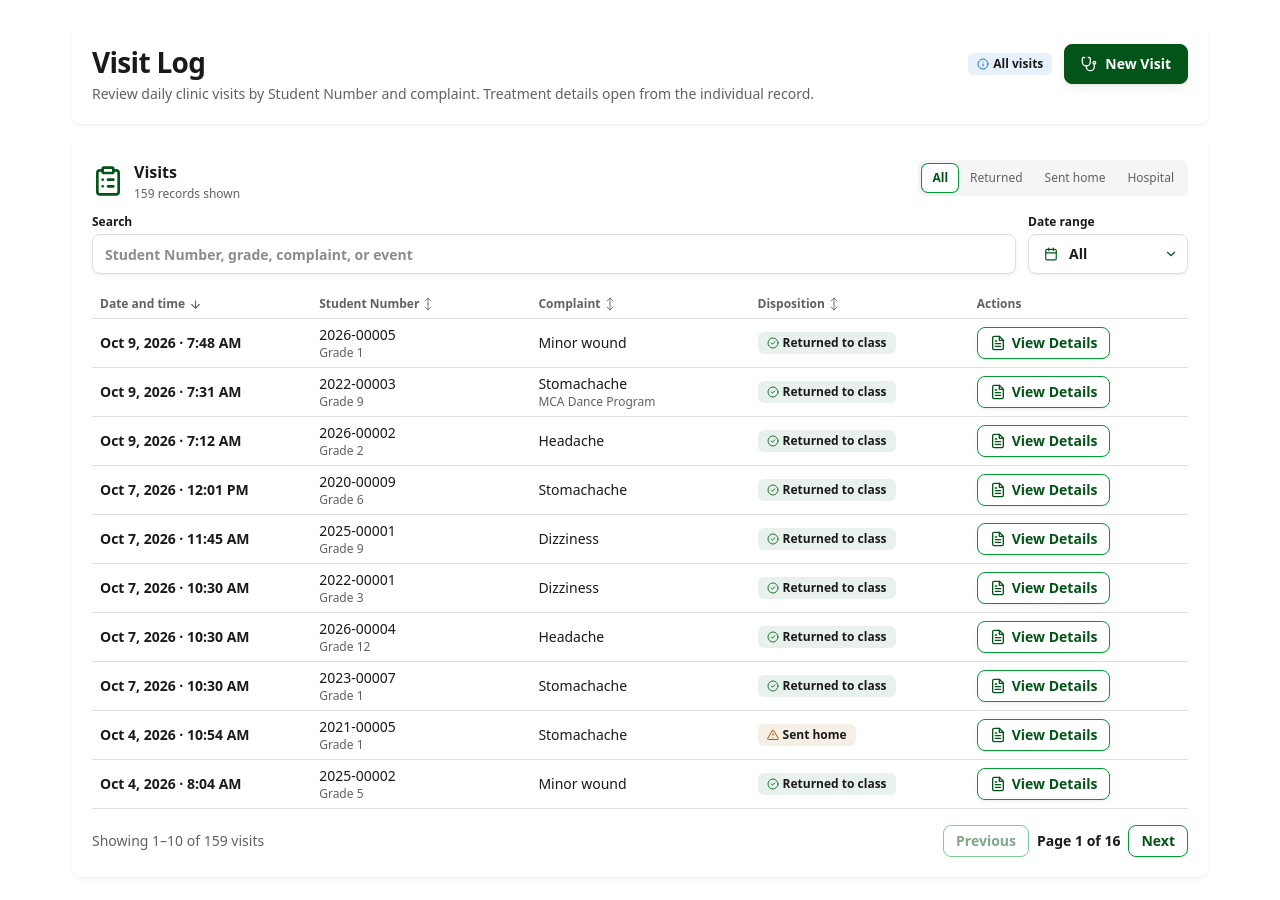
it: Visit Log › toggles a sortable column between ascending and descending
The image size is (1280, 900).
Expected: the heading "Visit Log" is shown, [92,43,205,81]
Click the button with aria-label "Sort by Student Number" at (376, 304), box [319,296,433,312]
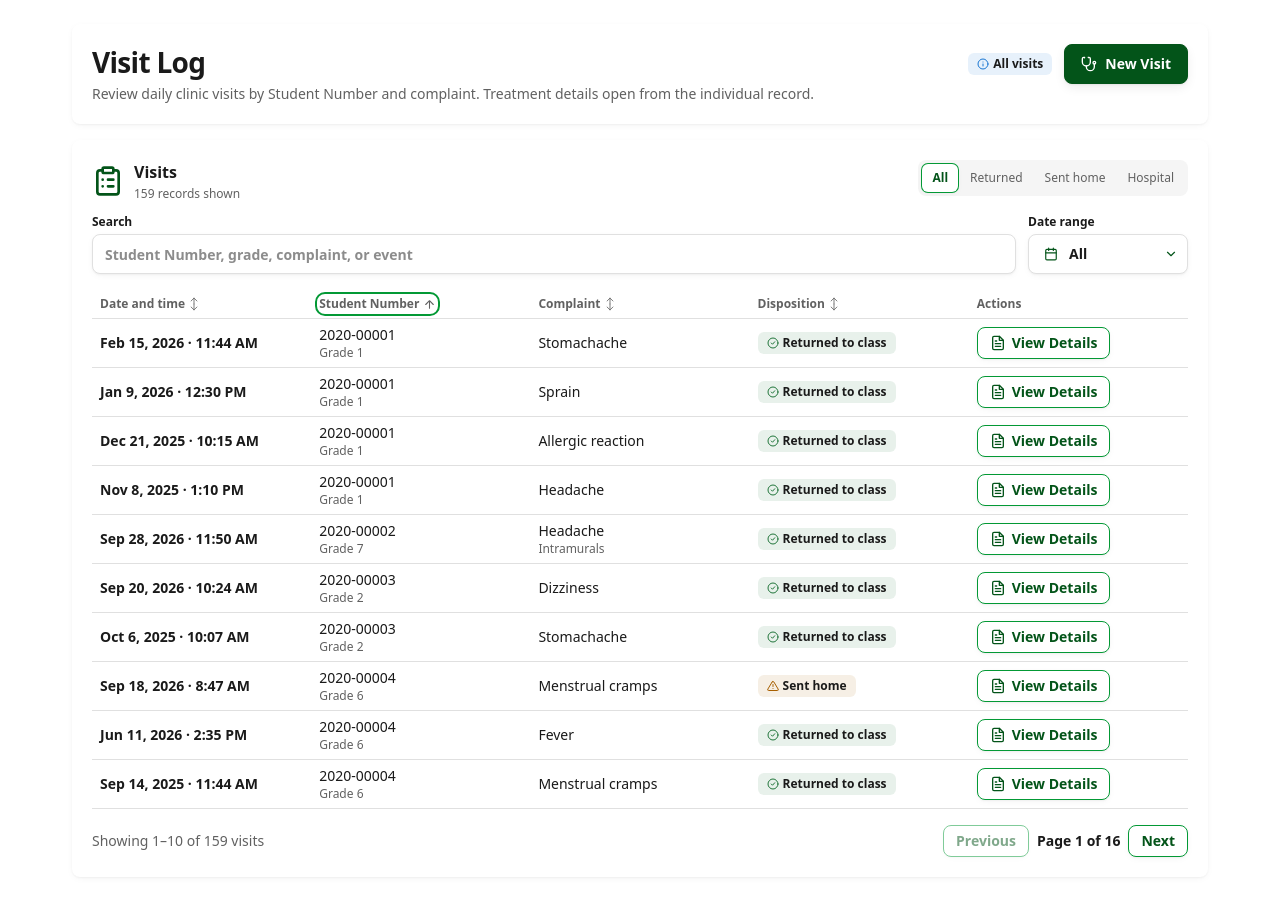
Expected: the button with aria-label "Sort by Student Number, currently ascending" is shown
Click the button with aria-label "Sort by Student Number, currently ascending" at (378, 304), box [319,296,436,312]
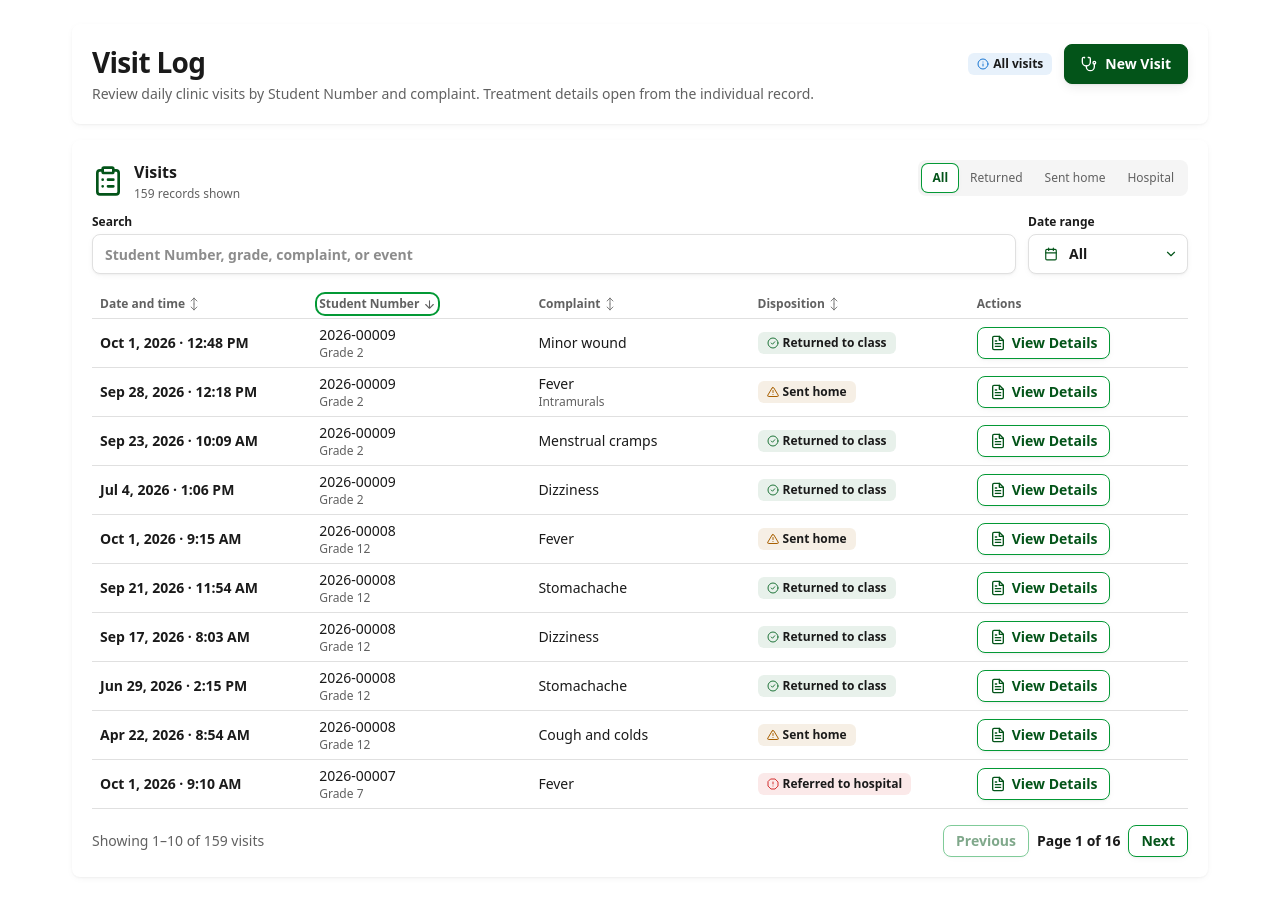
Expected: the button with aria-label "Sort by Student Number, currently descending" is shown, [319,296,436,312]
